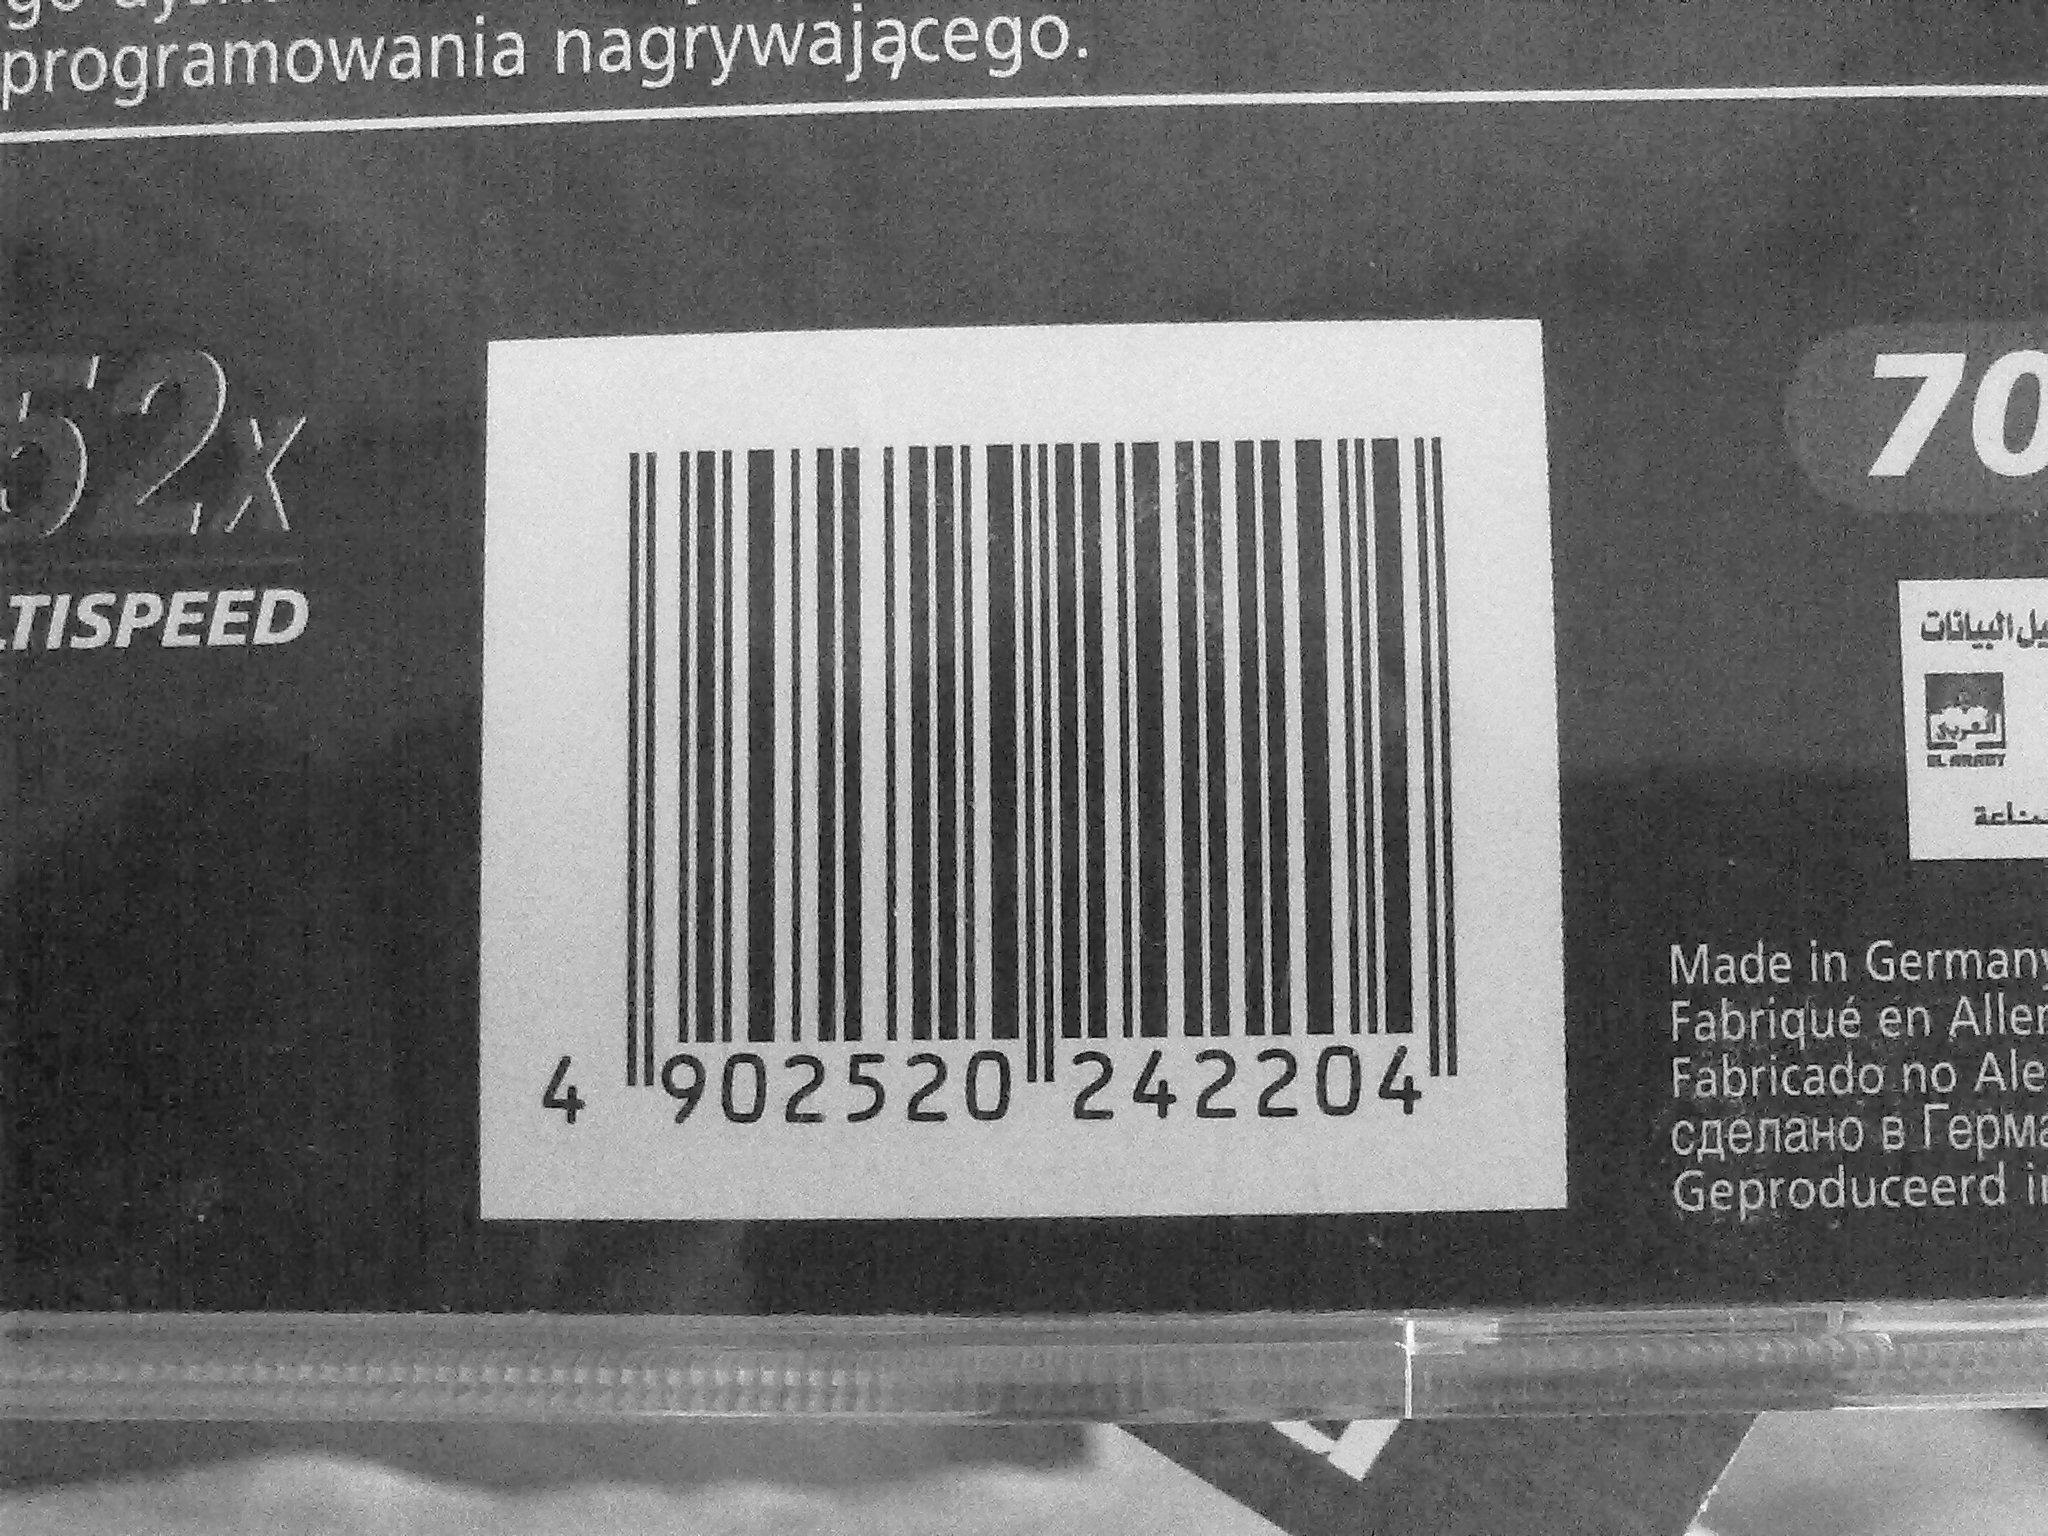Barcode: (540, 373, 1513, 1134)
